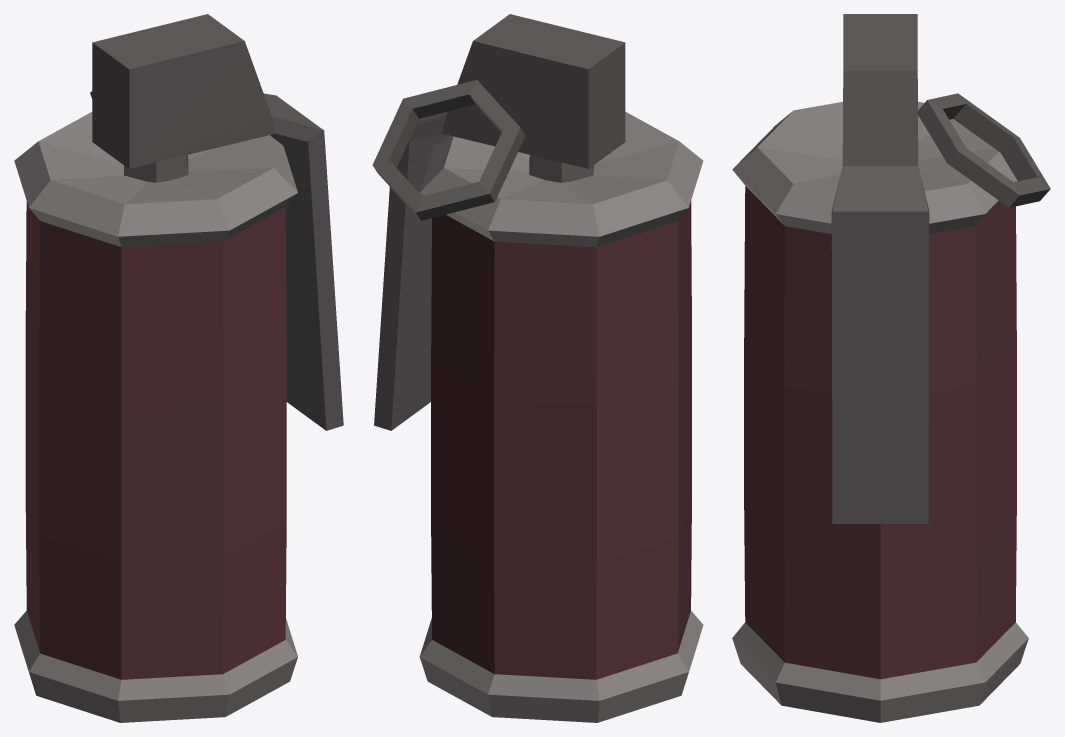
Rendered from weapons-grenade-smoke-grey.glb.
3 views of the same model, side by side, from view 1: azimuth 30°, elevation 25°; view 2: azimuth 150°, elevation 25°; view 3: azimuth 270°, elevation 25° (orthographic).
Visible parts, largest first — view 1: SM_Grenade_Smoke_Grey; view 2: SM_Grenade_Smoke_Grey; view 3: SM_Grenade_Smoke_Grey.
Part boxes in pixels (x1,y1,x2,y2): SM_Grenade_Smoke_Grey: [14, 14, 343, 722]; SM_Grenade_Smoke_Grey: [372, 14, 703, 722]; SM_Grenade_Smoke_Grey: [732, 14, 1050, 722].
Size of the model in its own units: 0.0722 by 0.1474 by 0.0678.
